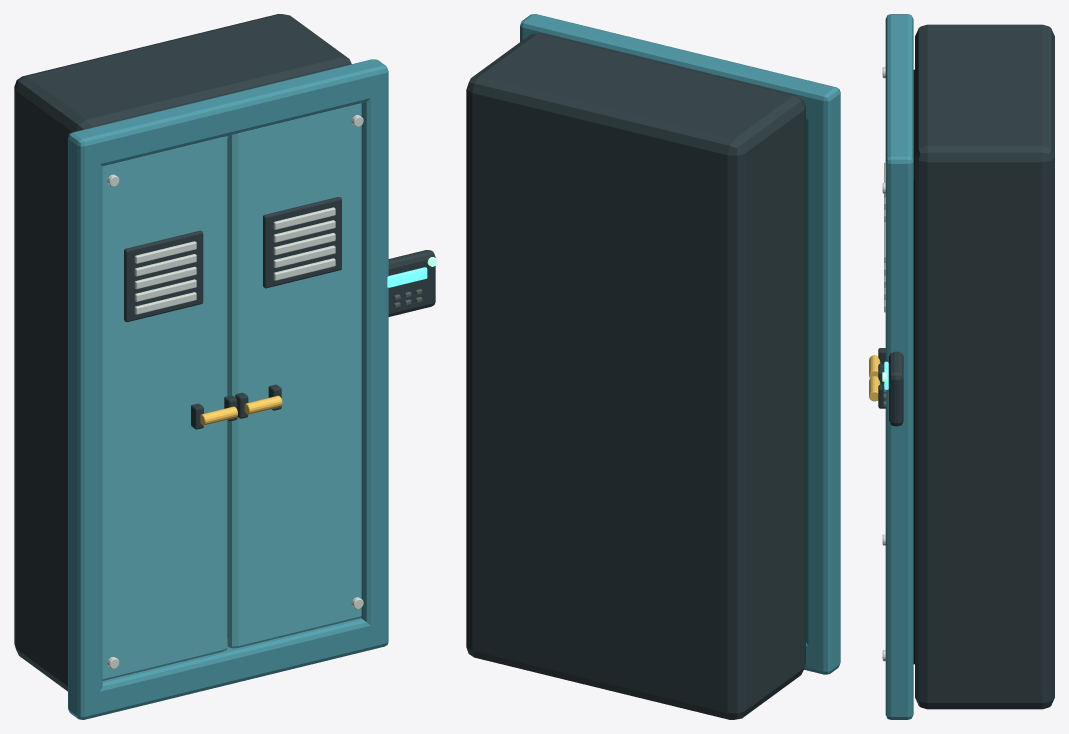
Rendered from Casier mural de rangement.glb.
The picture shows the model from 3 angles, left to right: view 1: azimuth 30°, elevation 25°; view 2: azimuth 150°, elevation 25°; view 3: azimuth 270°, elevation 25°; orthographic projection. The views are drawn at different scales.
Visible parts, largest first — view 1: LOCKER_Right_Animated_Door, LOCKER_Left_Animated_Door, LOCKER_Rear_Carcass, LOCKER_Left_Frame, LOCKER_Right_Frame, LOCKER_Top_Frame, LOCKER_Bottom_Frame, LOCKER_Left_Door_Vent_Backplate, LOCKER_Right_Door_Vent_Backplate, LOCKER_Utility_Terminal_Block; view 2: LOCKER_Rear_Carcass, LOCKER_Left_Frame, LOCKER_Top_Frame; view 3: LOCKER_Rear_Carcass, LOCKER_Right_Frame, LOCKER_Top_Frame, LOCKER_Interior_Shadow_Cavity, LOCKER_Utility_Terminal_Block.
Boxes of the visible parts, box(x1,y1,x2,y2) form: LOCKER_Right_Animated_Door: box(227, 103, 361, 648); LOCKER_Left_Animated_Door: box(102, 136, 227, 680); LOCKER_Rear_Carcass: box(14, 14, 351, 691); LOCKER_Left_Frame: box(68, 129, 102, 719); LOCKER_Right_Frame: box(361, 59, 388, 647); LOCKER_Top_Frame: box(78, 60, 380, 166); LOCKER_Bottom_Frame: box(90, 618, 380, 716); LOCKER_Left_Door_Vent_Backplate: box(124, 230, 203, 322); LOCKER_Right_Door_Vent_Backplate: box(263, 197, 341, 288); LOCKER_Utility_Terminal_Block: box(388, 250, 435, 316); LOCKER_Rear_Carcass: box(466, 33, 805, 719); LOCKER_Left_Frame: box(806, 86, 840, 674); LOCKER_Top_Frame: box(528, 15, 829, 120); LOCKER_Rear_Carcass: box(915, 24, 1054, 709); LOCKER_Right_Frame: box(885, 154, 913, 719); LOCKER_Top_Frame: box(885, 16, 913, 158); LOCKER_Interior_Shadow_Cavity: box(913, 69, 914, 664); LOCKER_Utility_Terminal_Block: box(889, 351, 903, 426).
Bounding box in the file's own units: 1.3 × 2 × 0.598.
